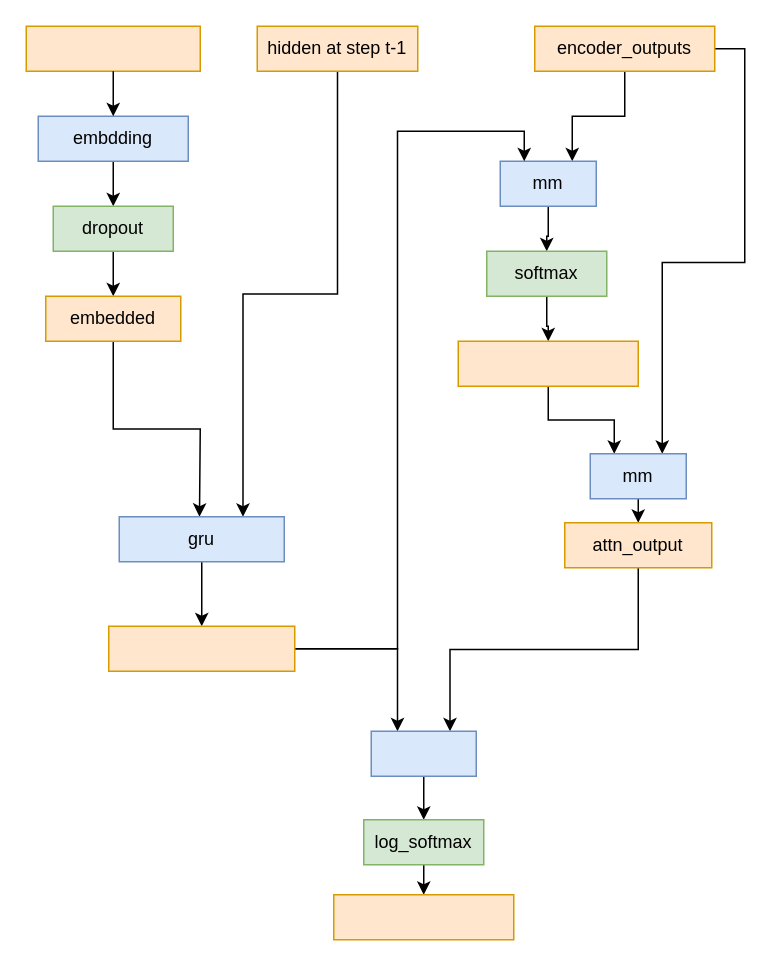
The diagram is 783 pixels wide and 966 high, and some of its shapes have lost their labels. The centre of each missing label's shape, as x and y in pixels:
attn_weights: the point at 547,363
hidden at step t: the point at 201,648
input at step t: the point at 112,48
out: the point at 423,753
output at step t: the point at 423,916
